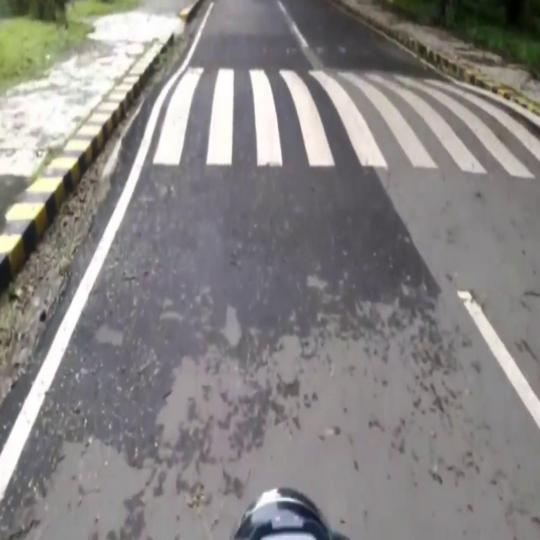Speed Bump: (122, 71, 540, 177)
